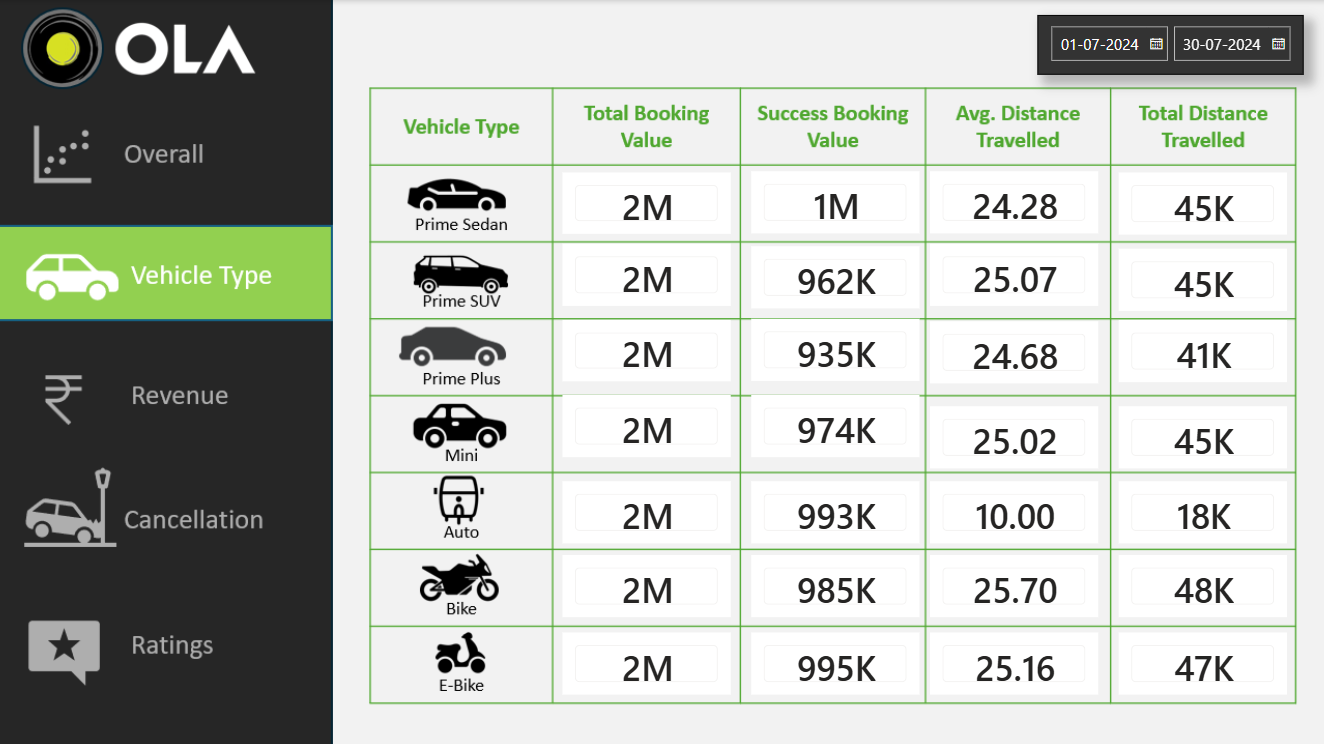

This screenshot's page, from the dashboard's own definition file:
{"tool":"powerbi","page":{"name":"Vehicle Type","canvas":[1280,720],"ordinal":1},"visuals":[{"type":"actionButton","box":[0,338.9,323.8,96.1],"z":0},{"type":"actionButton","box":[0,447.3,323.8,96.1],"z":1000},{"type":"actionButton","box":[0,580.4,323.8,96.1],"z":2000},{"type":"actionButton","box":[0,104.3,323.8,96.1],"z":3000},{"type":"cardVisual","fields":{"Data":["Sum(July.Booking_Value)"]},"box":[538.1,161.7,172.5,70],"z":4000},{"type":"cardVisual","fields":{"Data":["Sum(July.Booking_Value)"]},"box":[537.6,230.6,172.6,70.7],"z":5000},{"type":"cardVisual","fields":{"Data":["Sum(July.Booking_Value)"]},"box":[537.6,459.8,172.6,70.7],"z":6000},{"type":"cardVisual","fields":{"Data":["Sum(July.Booking_Value)"]},"box":[537.6,376.3,172.6,70.7],"z":7000},{"type":"cardVisual","fields":{"Data":["Sum(July.Booking_Value)"]},"box":[537.6,304.2,172.6,69.3],"z":8000},{"type":"cardVisual","fields":{"Data":["Sum(July.Booking_Value)"]},"box":[537.6,605.5,172.6,70.7],"z":9000},{"type":"cardVisual","fields":{"Data":["Sum(July.Booking_Value)"]},"box":[537.6,530.5,172.6,70.7],"z":10000},{"type":"cardVisual","fields":{"Data":["Sum(July.Booking_Value)"]},"box":[720.1,159.9,172.6,70.7],"z":11000},{"type":"cardVisual","fields":{"Data":["Sum(July.Booking_Value)"]},"box":[720.1,233.4,172.6,70.7],"z":12000},{"type":"cardVisual","fields":{"Data":["Sum(July.Booking_Value)"]},"box":[720.1,302.7,172.6,70.7],"z":13000},{"type":"cardVisual","fields":{"Data":["Sum(July.Booking_Value)"]},"box":[720.1,376.3,172.6,70.7],"z":14000},{"type":"cardVisual","fields":{"Data":["Sum(July.Booking_Value)"]},"box":[720.1,459.8,172.6,70.7],"z":15000},{"type":"cardVisual","fields":{"Data":["Sum(July.Booking_Value)"]},"box":[720.1,530.5,172.6,70.7],"z":16000},{"type":"cardVisual","fields":{"Data":["Sum(July.Booking_Value)"]},"box":[720.1,605.5,172.6,70.7],"z":17000},{"type":"cardVisual","fields":{"Data":["Avg(July.Ride_Distance)"]},"box":[892.7,159.9,172.6,70.7],"z":18000},{"type":"cardVisual","fields":{"Data":["Avg(July.Ride_Distance)"]},"box":[892.7,230.6,172.6,70.7],"z":19000},{"type":"cardVisual","fields":{"Data":["Avg(July.Ride_Distance)"]},"box":[892.7,305.6,172.6,70.7],"z":20000},{"type":"cardVisual","fields":{"Data":["Avg(July.Ride_Distance)"]},"box":[892.7,387.6,172.6,70.7],"z":21000},{"type":"cardVisual","fields":{"Data":["Avg(July.Ride_Distance)"]},"box":[892.7,459.8,172.6,70.7],"z":22000},{"type":"cardVisual","fields":{"Data":["Avg(July.Ride_Distance)"]},"box":[892.7,530.5,172.6,70.7],"z":23000},{"type":"cardVisual","fields":{"Data":["Avg(July.Ride_Distance)"]},"box":[892.7,605.5,172.6,70.7],"z":24000},{"type":"cardVisual","fields":{"Data":["Sum(July.Ride_Distance)"]},"box":[1075.2,161.3,172.6,70.7],"z":25000},{"type":"cardVisual","fields":{"Data":["Sum(July.Ride_Distance)"]},"box":[1075.2,234.8,172.6,70.7],"z":26000},{"type":"cardVisual","fields":{"Data":["Sum(July.Ride_Distance)"]},"box":[1075.2,304.2,172.6,70.7],"z":27000},{"type":"cardVisual","fields":{"Data":["Sum(July.Ride_Distance)"]},"box":[1075.2,387.6,172.6,70.7],"z":28000},{"type":"cardVisual","fields":{"Data":["Sum(July.Ride_Distance)"]},"box":[1075.2,459.8,172.6,70.7],"z":29000},{"type":"cardVisual","fields":{"Data":["Sum(July.Ride_Distance)"]},"box":[1075.2,530.5,172.6,70.7],"z":30000},{"type":"cardVisual","fields":{"Data":["Sum(July.Ride_Distance)"]},"box":[1075.2,605.5,172.6,70.7],"z":31000},{"type":"slicer","title":"Date","fields":{"Values":["July.Date"]},"box":[1001.3,14.5,257,57.9],"z":32000}]}

Visuals, with their boxes on the page's 1280x720 design canvas (x1, y1, x2, y2). These are canvas units, not pixel positions in the 1324x744 screenshot, which may show the page scaled, cropped or inside an application window:
actionButton: box(0, 339, 324, 435)
actionButton: box(0, 447, 324, 543)
actionButton: box(0, 580, 324, 676)
actionButton: box(0, 104, 324, 200)
cardVisual - Sum(July.Booking_Value): box(538, 162, 711, 232)
cardVisual - Sum(July.Booking_Value): box(538, 231, 710, 301)
cardVisual - Sum(July.Booking_Value): box(538, 460, 710, 530)
cardVisual - Sum(July.Booking_Value): box(538, 376, 710, 447)
cardVisual - Sum(July.Booking_Value): box(538, 304, 710, 374)
cardVisual - Sum(July.Booking_Value): box(538, 606, 710, 676)
cardVisual - Sum(July.Booking_Value): box(538, 530, 710, 601)
cardVisual - Sum(July.Booking_Value): box(720, 160, 893, 231)
cardVisual - Sum(July.Booking_Value): box(720, 233, 893, 304)
cardVisual - Sum(July.Booking_Value): box(720, 303, 893, 373)
cardVisual - Sum(July.Booking_Value): box(720, 376, 893, 447)
cardVisual - Sum(July.Booking_Value): box(720, 460, 893, 530)
cardVisual - Sum(July.Booking_Value): box(720, 530, 893, 601)
cardVisual - Sum(July.Booking_Value): box(720, 606, 893, 676)
cardVisual - Avg(July.Ride_Distance): box(893, 160, 1065, 231)
cardVisual - Avg(July.Ride_Distance): box(893, 231, 1065, 301)
cardVisual - Avg(July.Ride_Distance): box(893, 306, 1065, 376)
cardVisual - Avg(July.Ride_Distance): box(893, 388, 1065, 458)
cardVisual - Avg(July.Ride_Distance): box(893, 460, 1065, 530)
cardVisual - Avg(July.Ride_Distance): box(893, 530, 1065, 601)
cardVisual - Avg(July.Ride_Distance): box(893, 606, 1065, 676)
cardVisual - Sum(July.Ride_Distance): box(1075, 161, 1248, 232)
cardVisual - Sum(July.Ride_Distance): box(1075, 235, 1248, 306)
cardVisual - Sum(July.Ride_Distance): box(1075, 304, 1248, 375)
cardVisual - Sum(July.Ride_Distance): box(1075, 388, 1248, 458)
cardVisual - Sum(July.Ride_Distance): box(1075, 460, 1248, 530)
cardVisual - Sum(July.Ride_Distance): box(1075, 530, 1248, 601)
cardVisual - Sum(July.Ride_Distance): box(1075, 606, 1248, 676)
"Date" slicer: box(1001, 14, 1258, 72)
